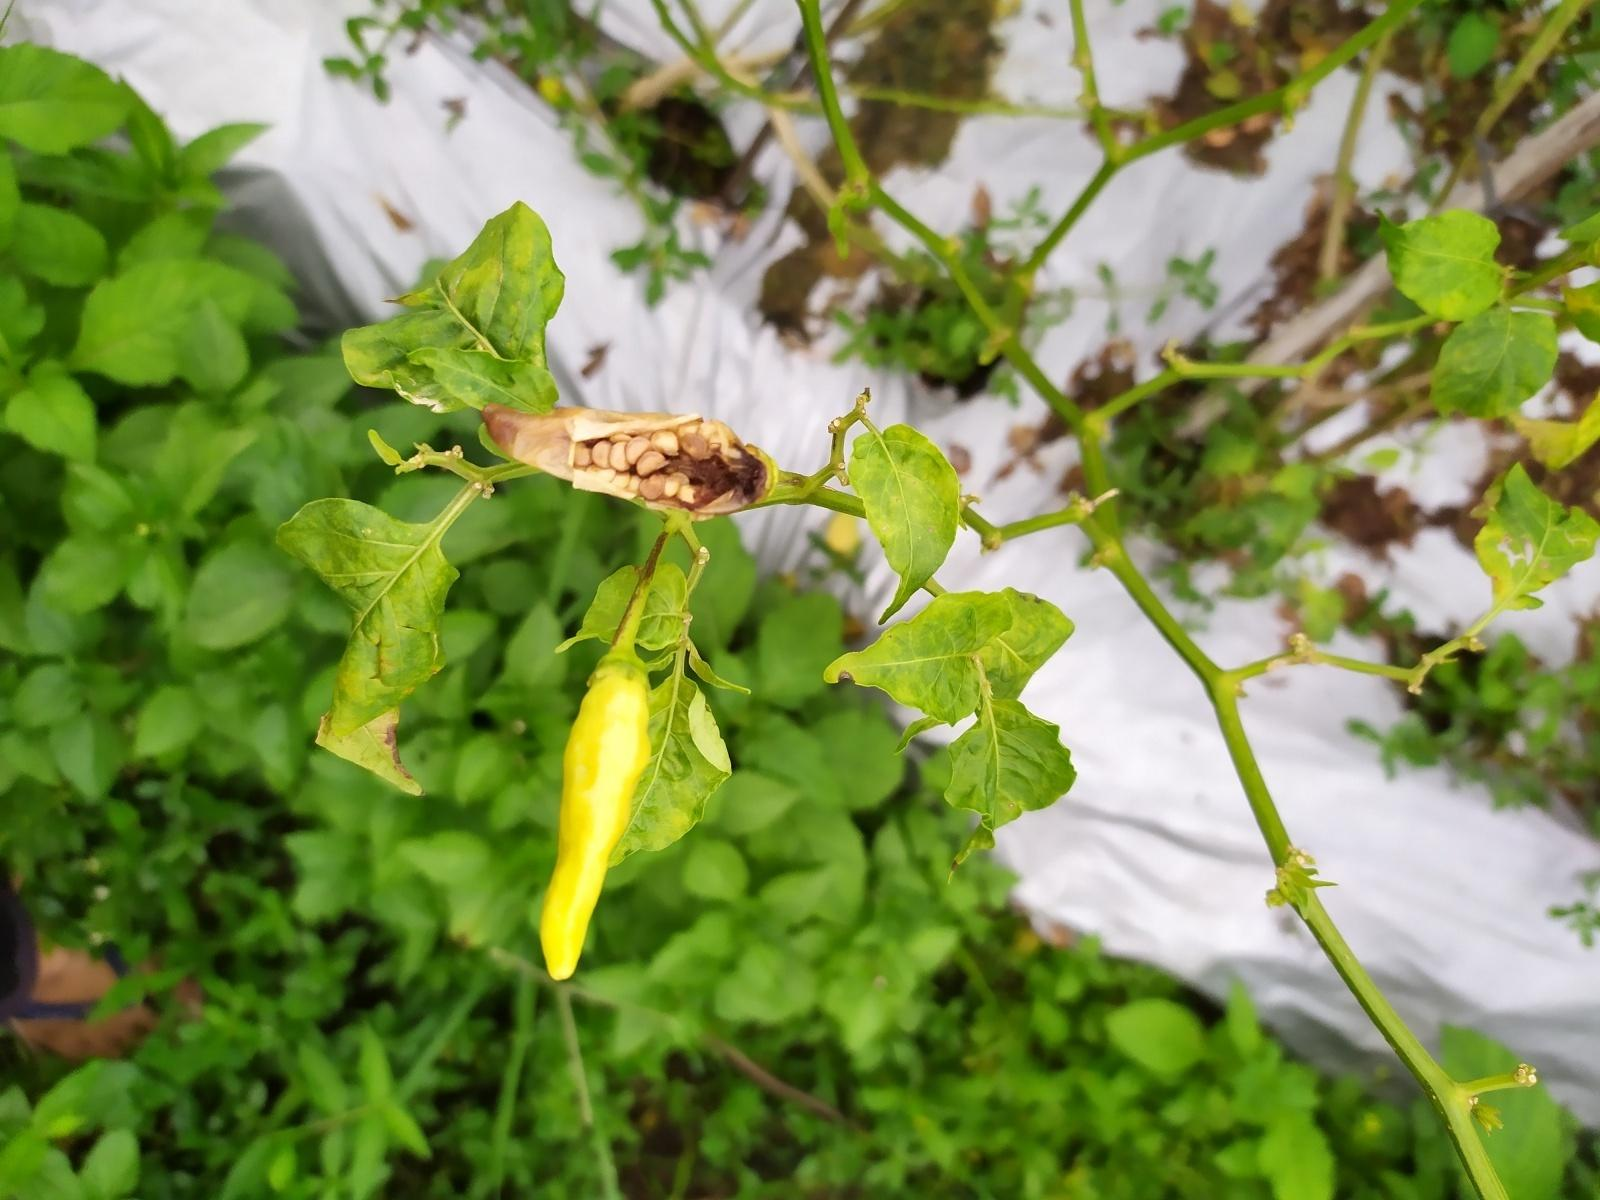cabai_normal: (540, 664, 651, 982)
lalat_buah: (483, 406, 774, 518)
